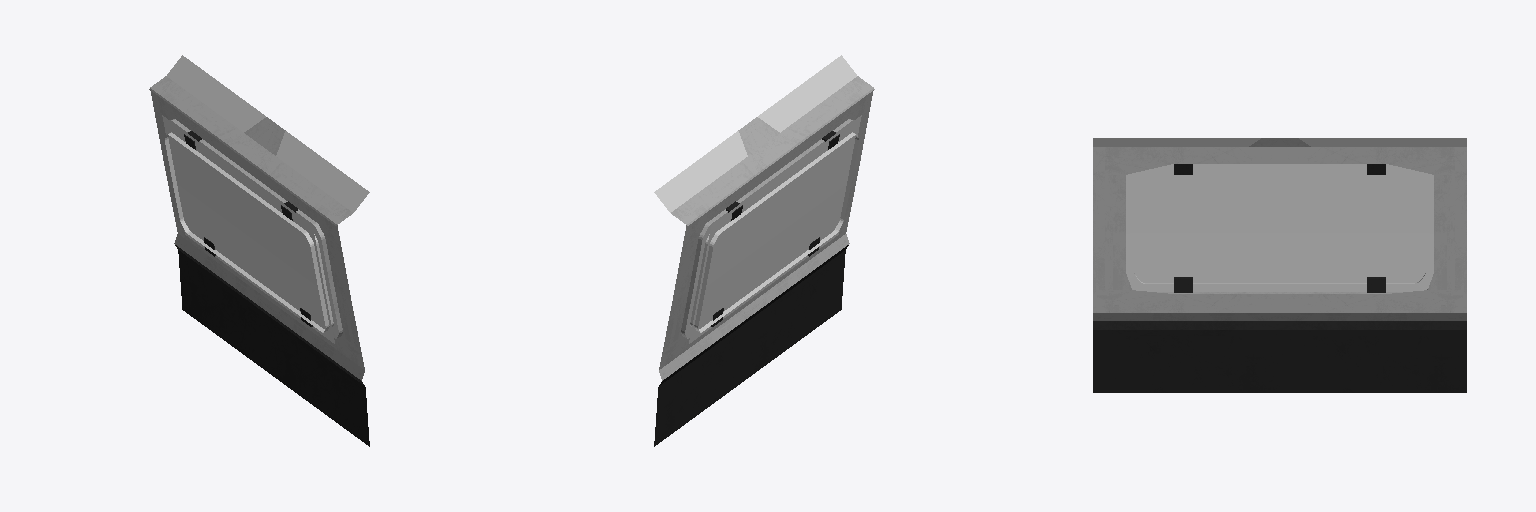
The picture shows the model from 3 angles: view 1: azimuth 30°, elevation 25°; view 2: azimuth 150°, elevation 25°; view 3: azimuth 270°, elevation 25°; orthographic projection.
Visible parts, largest first — view 1: WallAstra_Straight_Window_Plane.157; view 2: WallAstra_Straight_Window_Plane.157; view 3: WallAstra_Straight_Window_Plane.157.
Part boxes in pixels (left/top/right/bottom): WallAstra_Straight_Window_Plane.157: left=149, top=55, right=369, bottom=446; WallAstra_Straight_Window_Plane.157: left=654, top=55, right=874, bottom=446; WallAstra_Straight_Window_Plane.157: left=1093, top=138, right=1466, bottom=392.
Bounding box in the file's own units: 0.4975 × 3 × 4.
5 materials, 2 textured.